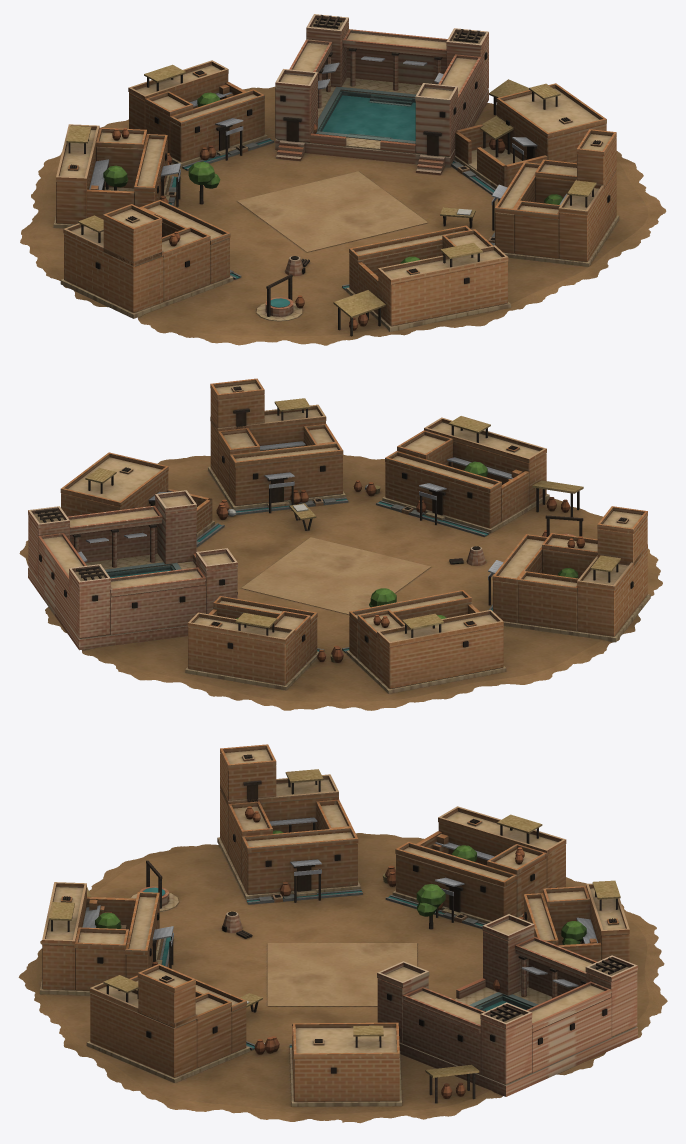
The model's file is bronze-town-small-a-indic.glb.
3 views of the same model, one above another, from view 1: azimuth 30°, elevation 25°; view 2: azimuth 150°, elevation 25°; view 3: azimuth 270°, elevation 25° (orthographic). The views are drawn at different scales.
Visible parts, largest first — view 1: LOD0; view 2: LOD0; view 3: LOD0.
Part boxes in pixels (box(x1,y1,x2,y2)): LOD0: box(20, 14, 666, 345); LOD0: box(19, 378, 662, 710); LOD0: box(18, 744, 667, 1123).
Size of what is drawn, in the model's own units: 3.98 by 0.61 by 3.71.
3 materials, 3 textured.
